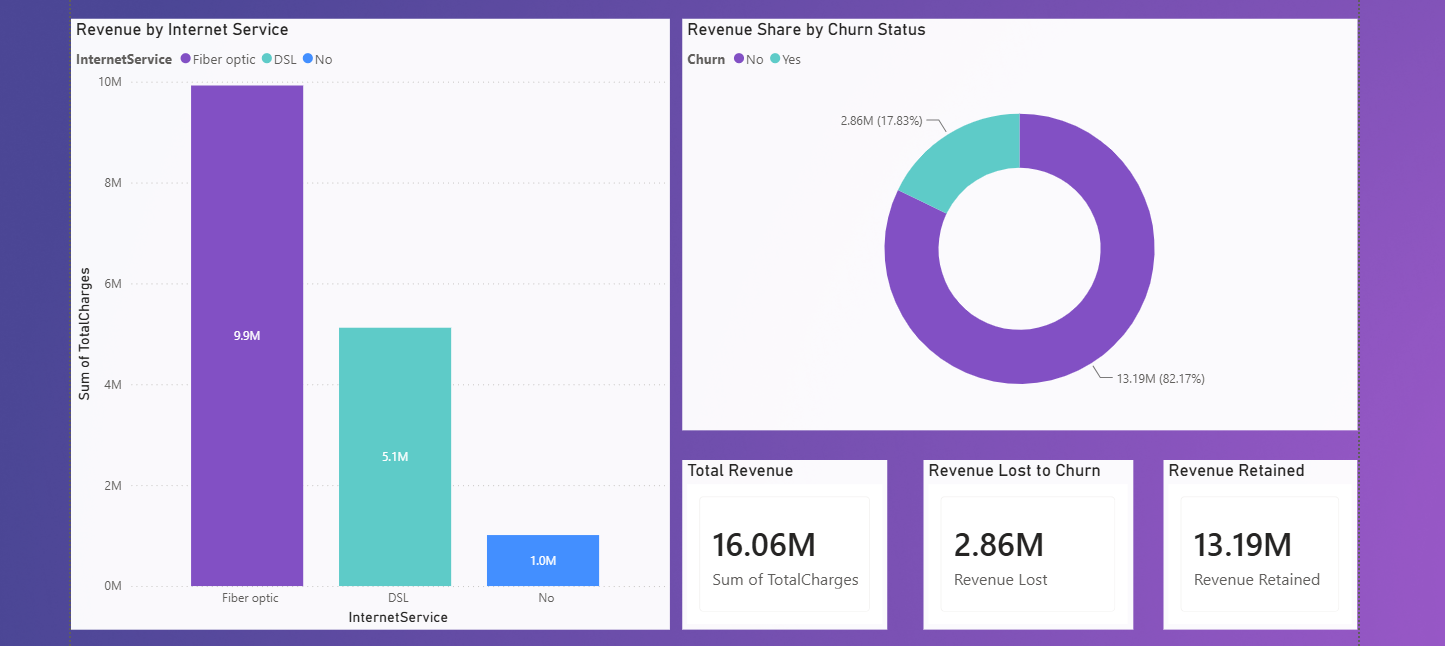

The dashboard page shown, as its layout file describes it:
{"tool":"powerbi","page":{"name":"Revenue Analysis","canvas":[1280,720],"ordinal":2},"visuals":[{"type":"columnChart","title":"Revenue by Internet Service","fields":{"Y":["Sum(telco churn.TotalCharges)"],"Category":["telco churn.InternetService"],"Series":["telco churn.InternetService"]},"box":[0,33.6,595.9,608.3],"z":0},{"type":"donutChart","title":"Revenue Share by Churn Status","fields":{"Y":["Sum(telco churn.TotalCharges)"],"Category":["telco churn.Churn"]},"box":[608.3,33.6,671.7,409.3],"z":1000},{"type":"cardVisual","title":"Revenue Lost to Churn","fields":{"Data":["telco churn.Revenue Lost"]},"box":[848.4,472.7,209,169.2],"z":2000},{"type":"cardVisual","title":"Revenue Retained","fields":{"Data":["telco churn.Revenue Retained"]},"box":[1087.2,472.7,192.8,169.2],"z":3000},{"type":"cardVisual","title":"Total Revenue","fields":{"Data":["Sum(telco churn.TotalCharges)"]},"box":[608.3,472.7,204,169.2],"z":4000}]}

Visuals, with their boxes on the page's 1280x720 design canvas (x1, y1, x2, y2). These are canvas units, not pixel positions in the 1445x646 screenshot, which may show the page scaled, cropped or inside an application window:
"Revenue by Internet Service" columnChart: l=0, t=34, r=596, b=642
"Revenue Share by Churn Status" donutChart: l=608, t=34, r=1280, b=443
"Revenue Lost to Churn" cardVisual: l=848, t=473, r=1057, b=642
"Revenue Retained" cardVisual: l=1087, t=473, r=1280, b=642
"Total Revenue" cardVisual: l=608, t=473, r=812, b=642
